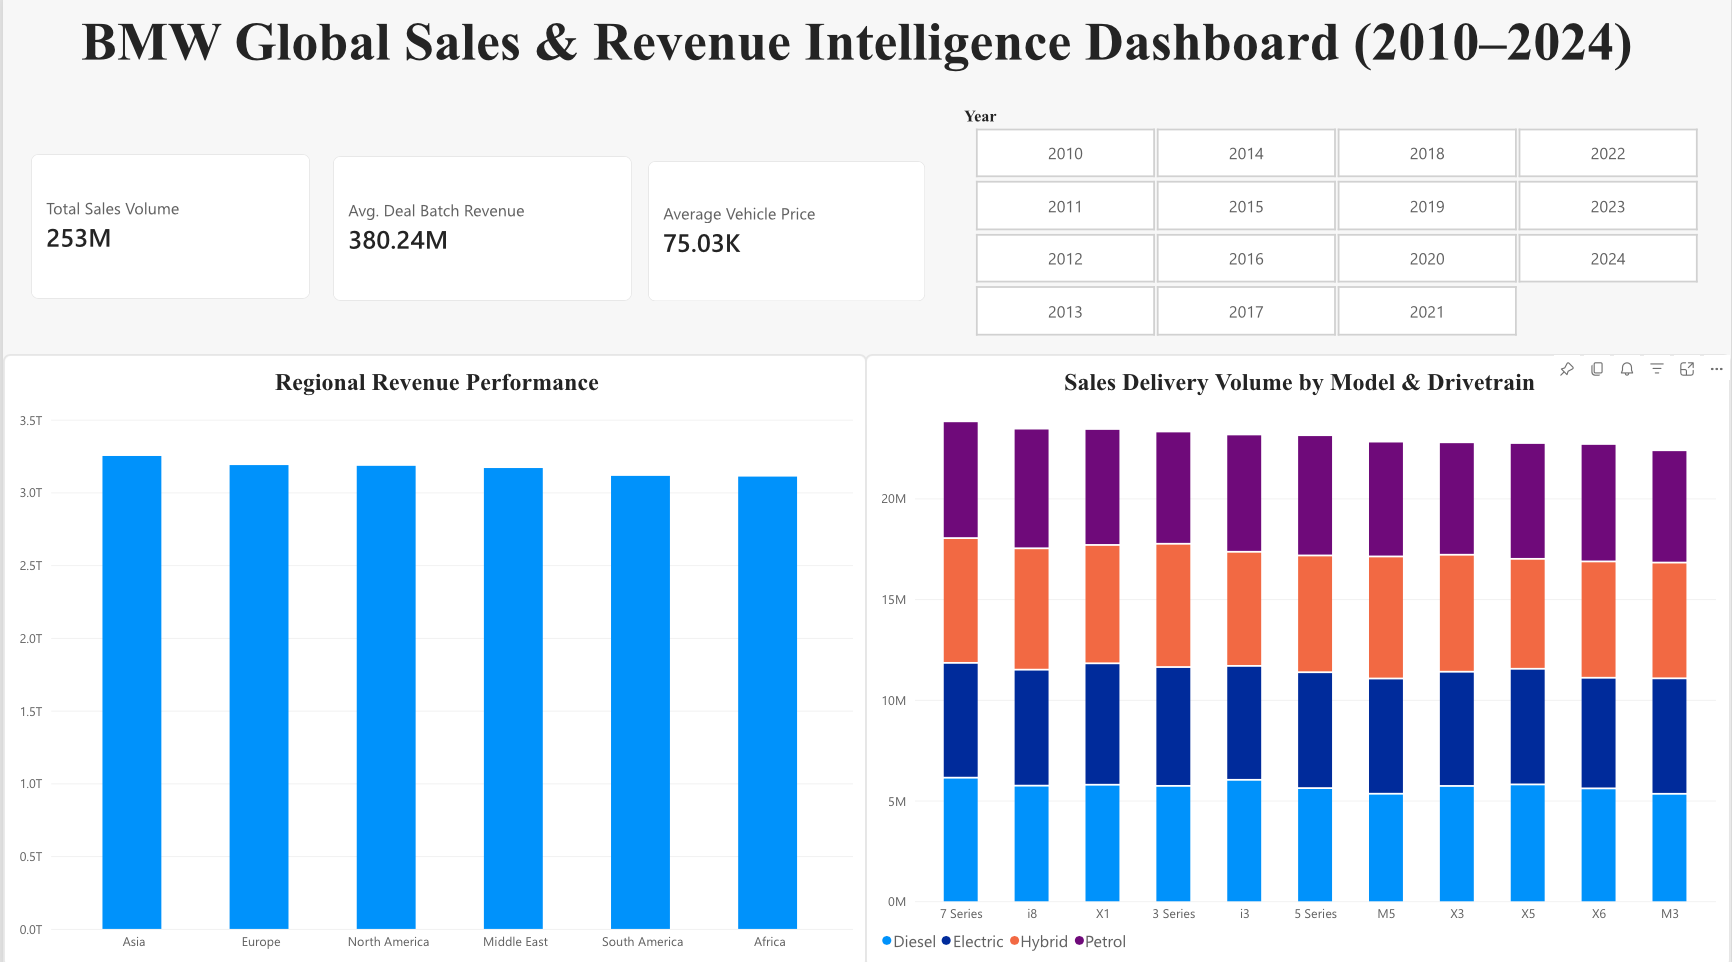

What the dashboard file says about the page in this screenshot:
{"tool":"powerbi","page":{"name":"Page 1","canvas":[1920,1080],"ordinal":0},"visuals":[{"type":"cardVisual","fields":{"Data":["Sum(bmw_digital_sales_2010_2024 1.Sales_Volume)"]},"box":[30.9,176,310.3,161.5],"z":0},{"type":"cardVisual","fields":{"Data":["Avg(bmw_digital_sales_2010_2024 1.Total_Revenue)"]},"box":[366.6,177.8,332.1,161.5],"z":1000},{"type":"cardVisual","fields":{"Data":["Avg(bmw_digital_sales_2010_2024 1.Price_USD)"]},"box":[716.8,183.3,308.5,156.1],"z":2000},{"type":"clusteredColumnChart","title":"Regional Revenue Performance","fields":{"Category":["bmw_digital_sales_2010_2024 1.Region"],"Y":["Sum(bmw_digital_sales_2010_2024 1.Total_Revenue)"]},"box":[0,397.4,960,682.3],"z":3000},{"type":"columnChart","title":"Sales Delivery Volume by Model & Drivetrain","fields":{"Series":["bmw_digital_sales_2010_2024 1.Fuel_Type"],"Category":["bmw_digital_sales_2010_2024 1.Vehicle_Model"],"Y":["Sum(bmw_digital_sales_2010_2024 1.Sales_Volume)"]},"box":[958.2,397.4,961.9,681.6],"z":4000},{"type":"slicer","fields":{"Values":["bmw_digital_sales_2010_2024 1.Year"]},"box":[1059.8,123.4,842,255.9],"z":5000},{"type":"textbox","title":"BMW Global Sales & Revenue Intelligence Dashboard (2010–2024)","box":[30.9,16.3,1834.7,145.2],"z":6000}]}

Visuals, with their boxes in screenshot pixels (x1, y1, x2, y2), scaled from the page's 1920x1080 canvas onto the 1732x962 screenshot:
cardVisual - Sum(bmw_digital_sales_2010_2024 1.Sales_Volume): x1=28, y1=157, x2=308, y2=301
cardVisual - Avg(bmw_digital_sales_2010_2024 1.Total_Revenue): x1=331, y1=158, x2=630, y2=302
cardVisual - Avg(bmw_digital_sales_2010_2024 1.Price_USD): x1=647, y1=163, x2=925, y2=302
"Regional Revenue Performance" clusteredColumnChart: x1=0, y1=354, x2=866, y2=961
"Sales Delivery Volume by Model & Drivetrain" columnChart: x1=864, y1=354, x2=1731, y2=961
slicer - bmw_digital_sales_2010_2024 1.Year: x1=956, y1=110, x2=1716, y2=338
"BMW Global Sales & Revenue Intelligence Dashboard (2010–2024)" textbox: x1=28, y1=15, x2=1683, y2=144
